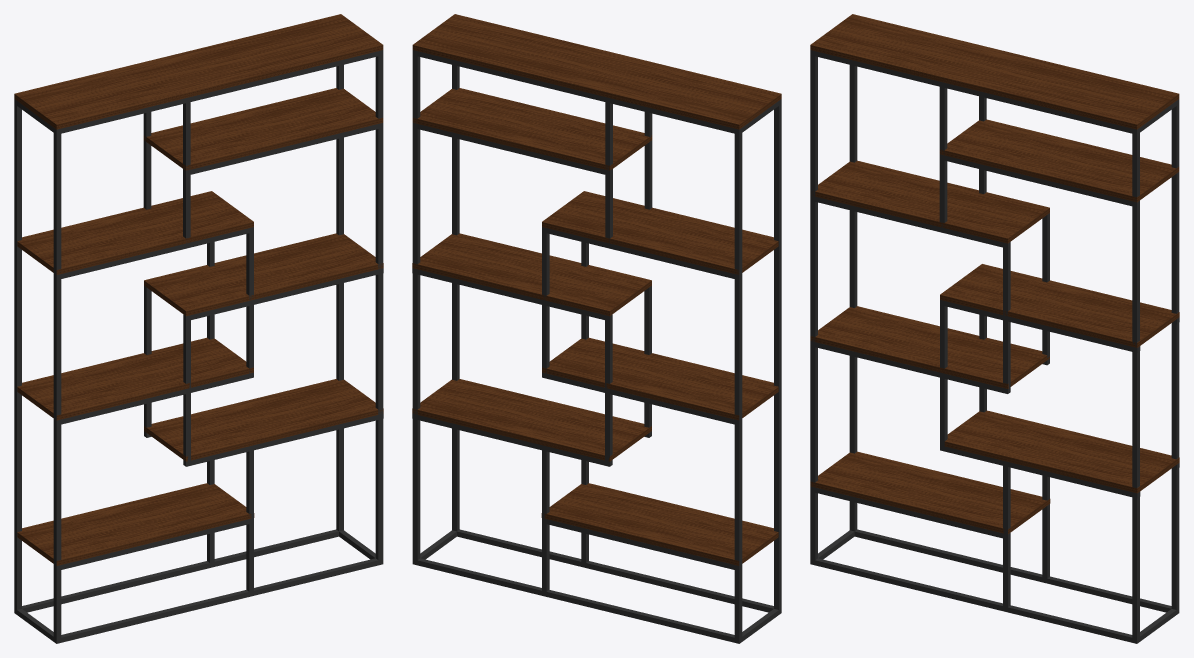
Rendered from planks2.glb.
3 renders of one model, left to right at view 1: azimuth 30°, elevation 25°; view 2: azimuth 150°, elevation 25°; view 3: azimuth 330°, elevation 25°, orthographic.
Parts seen in each view (by area): view 1: Cube, Cube_16, Cube_11, Cube_9, Cube_7, Cube_14, Cube_12, Cube_2_3, Cube_1_2, Cube_4, Cube_6, Cube_5 (+14 smaller); view 2: Cube, Cube_16, Cube_11, Cube_9, Cube_7, Cube_14, Cube_12, Cube_4, Cube_3_3, Cube_2_3, Cube_5, Cube_6 (+14 smaller); view 3: Cube, Cube_16, Cube_9, Cube_14, Cube_7, Cube_11, Cube_12, Cube_3_3, Cube_2_3, Cube_1_2, Cube_4, Cube_6 (+14 smaller).
Part boxes in pixels (left/top/right/bottom): Cube: left=14, top=14, right=383, bottom=129; Cube_16: left=143, top=88, right=383, bottom=170; Cube_11: left=144, top=233, right=383, bottom=316; Cube_9: left=144, top=379, right=383, bottom=461; Cube_7: left=17, top=483, right=254, bottom=565; Cube_14: left=17, top=191, right=253, bottom=274; Cube_12: left=17, top=337, right=253, bottom=420; Cube_2_3: left=53, top=132, right=61, bottom=641; Cube_1_2: left=375, top=54, right=383, bottom=564; Cube_4: left=14, top=103, right=21, bottom=613; Cube_6: left=54, top=558, right=383, bottom=643; Cube_5: left=14, top=529, right=338, bottom=614; Cube: left=412, top=14, right=781, bottom=129; Cube_16: left=412, top=88, right=652, bottom=170; Cube_11: left=412, top=233, right=651, bottom=316; Cube_9: left=412, top=379, right=651, bottom=461; Cube_7: left=541, top=483, right=778, bottom=565; Cube_14: left=542, top=191, right=778, bottom=274; Cube_12: left=542, top=337, right=778, bottom=420; Cube_4: left=734, top=132, right=742, bottom=643; Cube_3_3: left=412, top=55, right=420, bottom=564; Cube_2_3: left=774, top=103, right=781, bottom=611; Cube_5: left=412, top=558, right=740, bottom=643; Cube_6: left=457, top=529, right=781, bottom=614; Cube: left=810, top=14, right=1179, bottom=129; Cube_16: left=939, top=119, right=1179, bottom=202; Cube_9: left=944, top=410, right=1179, bottom=493; Cube_14: left=811, top=160, right=1049, bottom=243; Cube_7: left=810, top=451, right=1050, bottom=534; Cube_11: left=940, top=264, right=1179, bottom=347; Cube_12: left=810, top=306, right=1049, bottom=388; Cube_3_3: left=1171, top=104, right=1179, bottom=612; Cube_2_3: left=810, top=54, right=817, bottom=564; Cube_1_2: left=1132, top=132, right=1139, bottom=643; Cube_4: left=849, top=65, right=857, bottom=531; Cube_6: left=810, top=558, right=1138, bottom=643.
Size of the model in its own units: 0.4024 by 0.6105 by 0.09.
2 materials, 1 textured.
